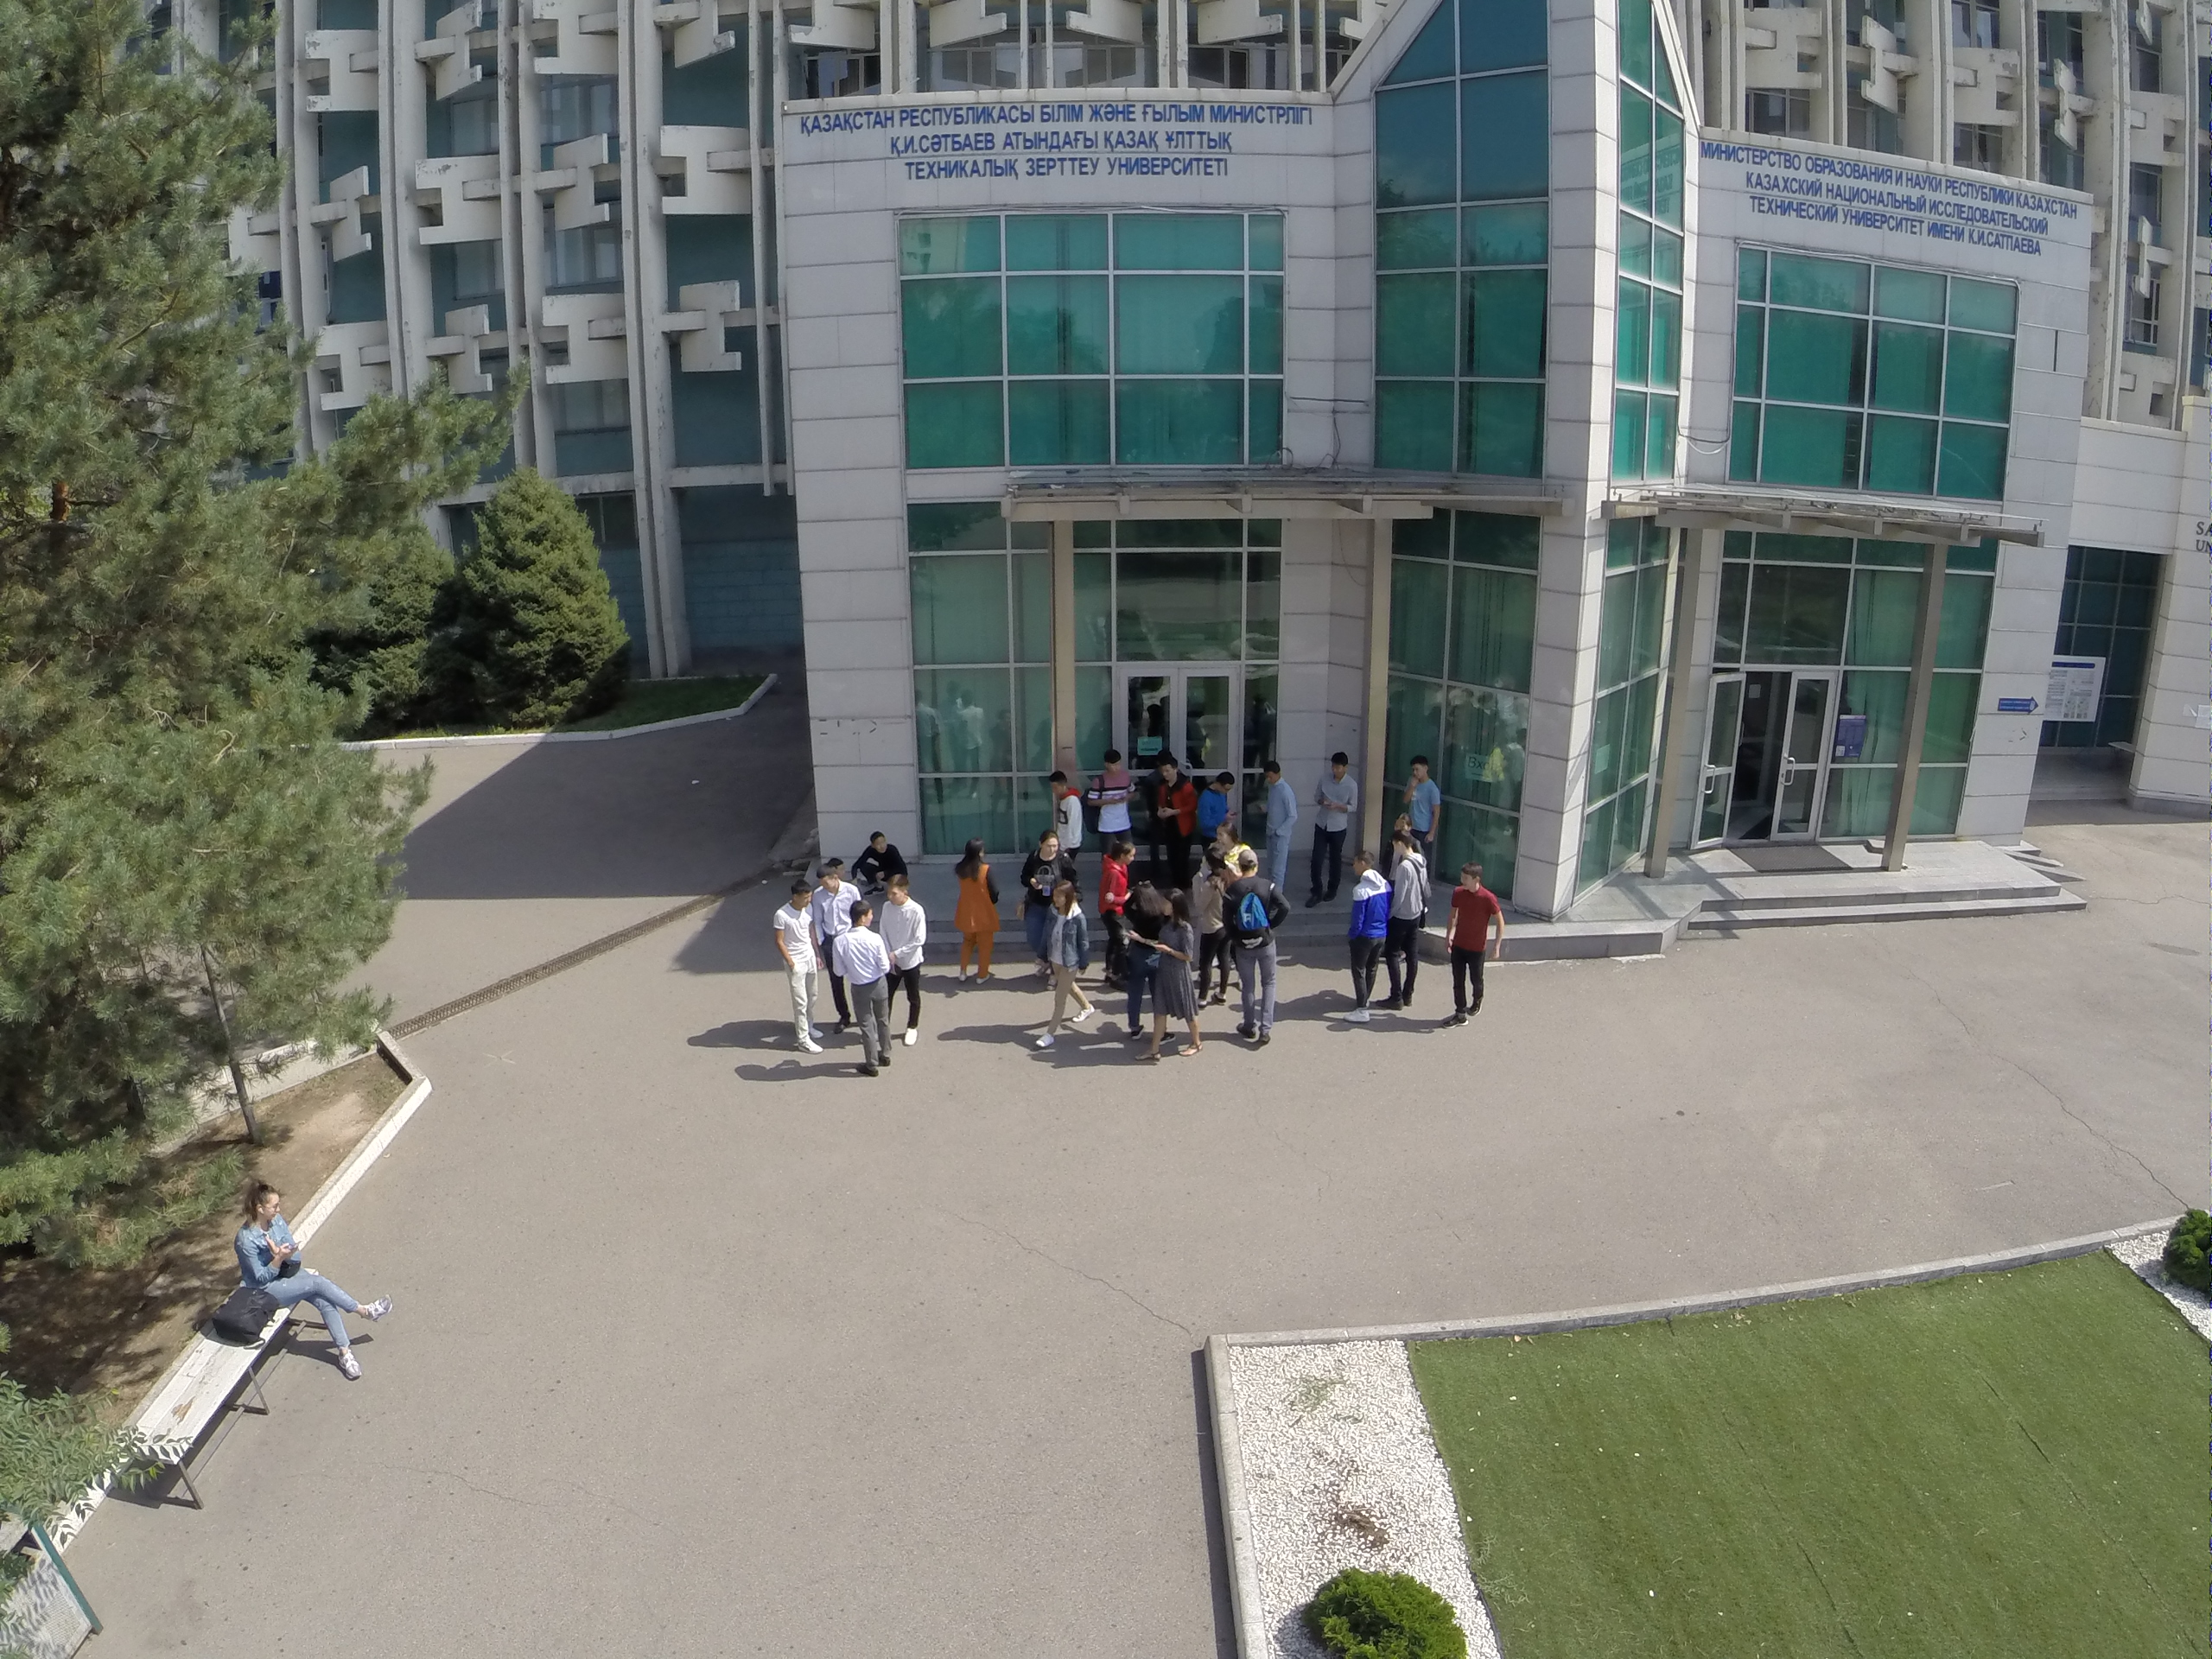person: (232, 1172, 384, 1401), (1225, 850, 1290, 1068), (826, 901, 899, 1084), (871, 867, 932, 1056), (1444, 855, 1505, 1038), (1042, 876, 1102, 1058), (1146, 886, 1205, 1066), (1383, 825, 1433, 1020), (774, 880, 825, 1051), (1343, 847, 1392, 1027), (1090, 829, 1147, 988), (952, 840, 1002, 995), (1319, 749, 1357, 916), (1258, 760, 1300, 906), (1149, 746, 1198, 874), (1036, 767, 1084, 870), (1405, 755, 1447, 867), (1086, 747, 1135, 837), (849, 827, 904, 897), (809, 867, 855, 945), (1026, 824, 1071, 898), (1205, 760, 1243, 843)
